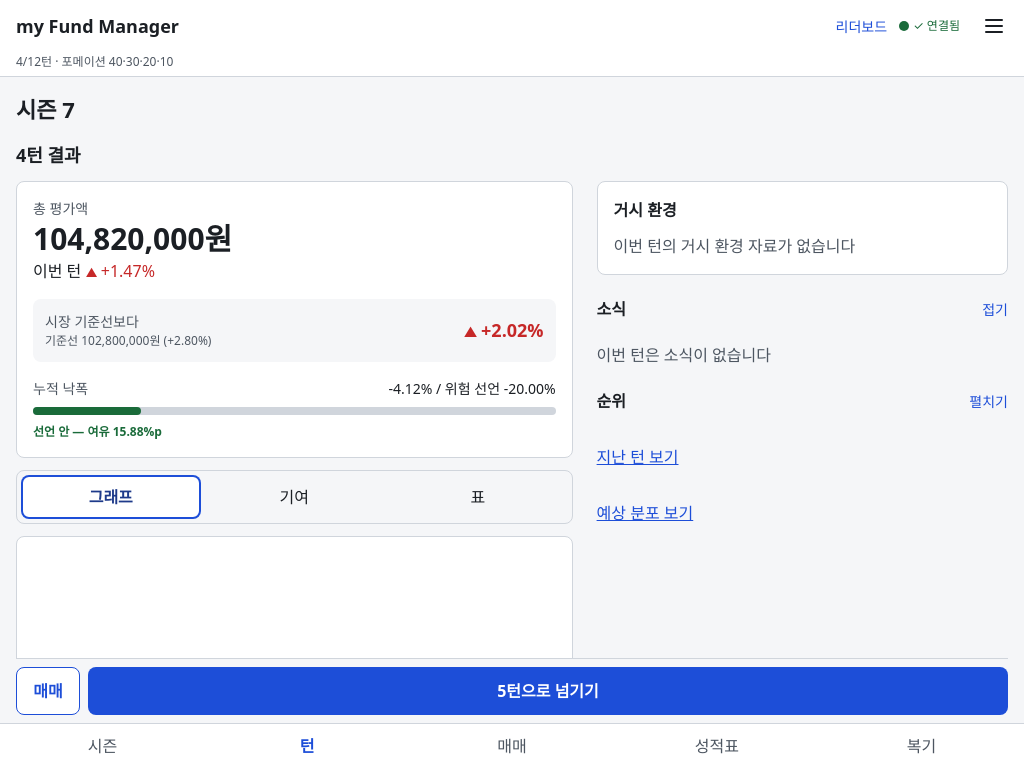
it: turn contribution on the turn screen › shows the sums and the positions as whole won and 2-decimal percent
Click the tab "기여" at (294, 497), box [204,475,384,519]
(page scrolled)
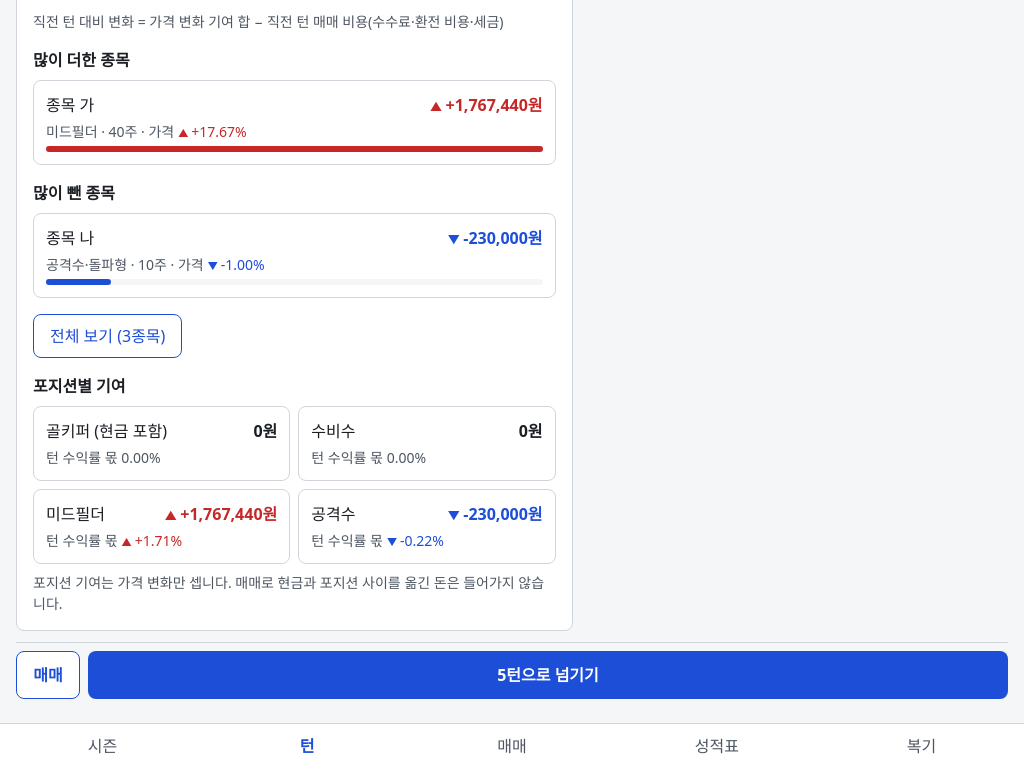
Expected: the text "-0.22%" is shown, [387,531,444,550]
Expected: the button "전체 보기 (3종목)" is shown, [33,314,182,358]
